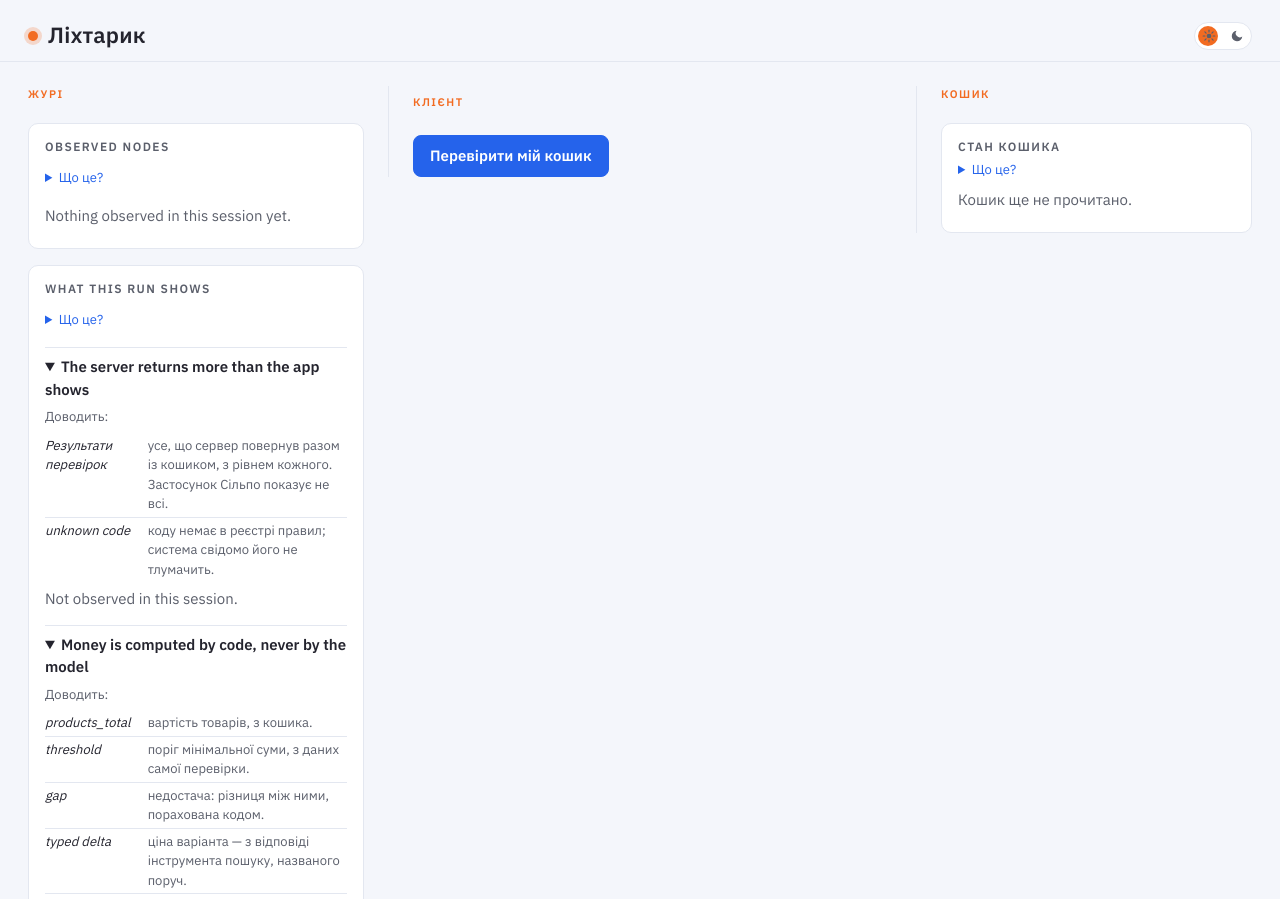
Test: recovery card › shows the receipt screen when the write verifies
Click the button "Перевірити мій кошик": (511, 156) top-left (413, 134), bottom-right (609, 177)
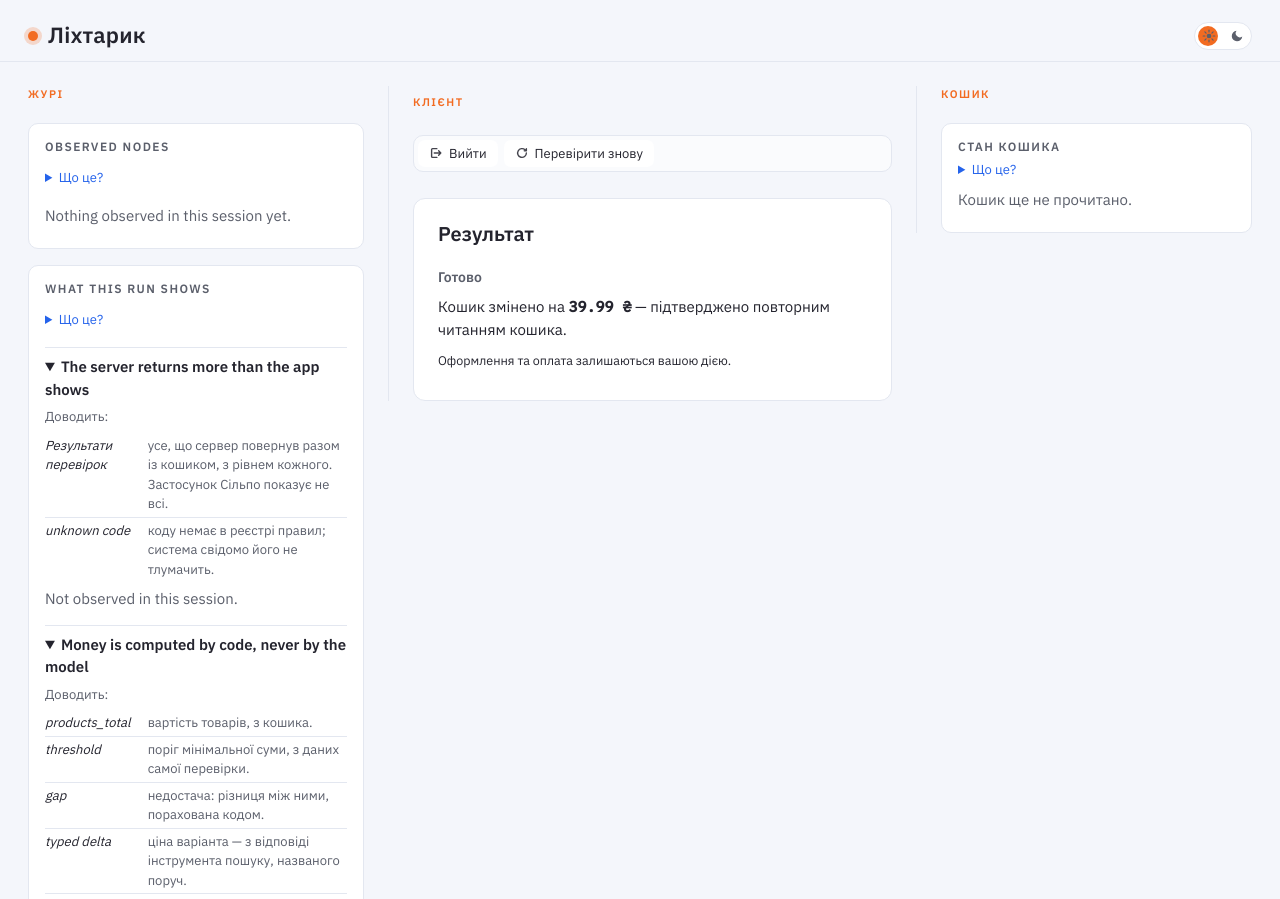
Now the element with test id "receipt-verified" is shown, box top-left (438, 296), bottom-right (867, 341)
Now the text with test id "actual-delta" shows "39.99", box top-left (568, 297), bottom-right (613, 316)
